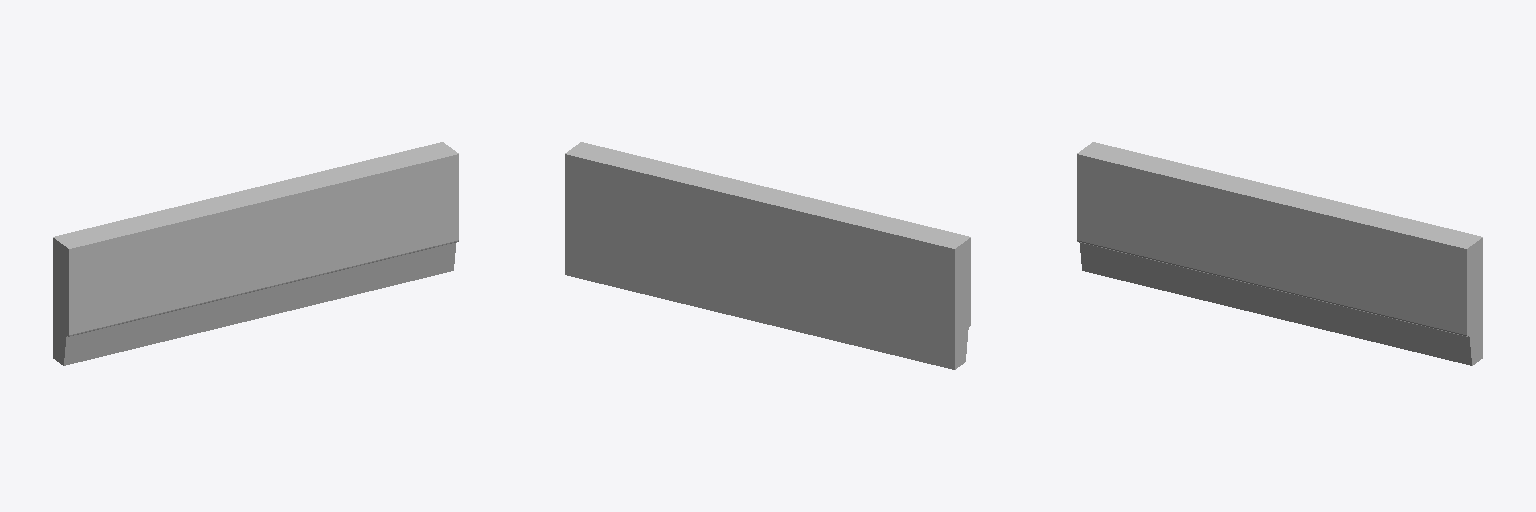
File: original-34.obj
The picture shows the model from 3 angles: view 1: azimuth 30°, elevation 25°; view 2: azimuth 150°, elevation 25°; view 3: azimuth 330°, elevation 25°; orthographic projection.
Parts seen in each view (by area): view 1: RB_21_B1/RB_21_B/mesh23/mesh23-geometry#mesh23-geometry; view 2: RB_21_B1/RB_21_B/mesh23/mesh23-geometry#mesh23-geometry; view 3: RB_21_B1/RB_21_B/mesh23/mesh23-geometry#mesh23-geometry.
Part boxes in pixels (x1,y1,x2,y2): RB_21_B1/RB_21_B/mesh23/mesh23-geometry#mesh23-geometry: (53, 142, 458, 365); RB_21_B1/RB_21_B/mesh23/mesh23-geometry#mesh23-geometry: (565, 142, 970, 369); RB_21_B1/RB_21_B/mesh23/mesh23-geometry#mesh23-geometry: (1077, 142, 1482, 365).
Size of the model in its own units: 0.4739 by 0.1404 by 0.0351.